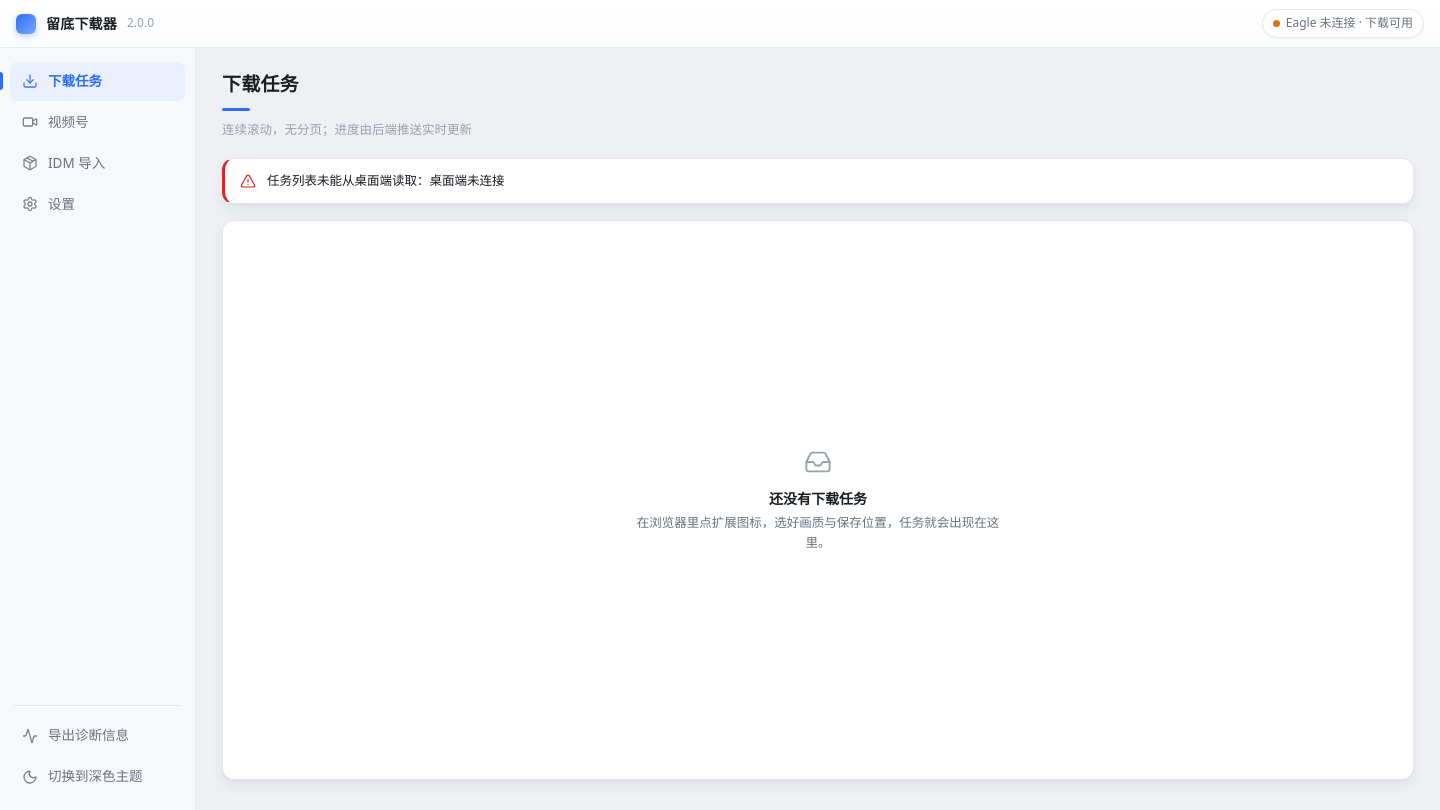
应用外壳 › 切页只换内容，外壳不重建（[09 §2.3]、[16 §4.7]）
The width and height of the screenshot is (1440, 810).
Click the button "设置" at (98, 204), box [10, 185, 185, 224]
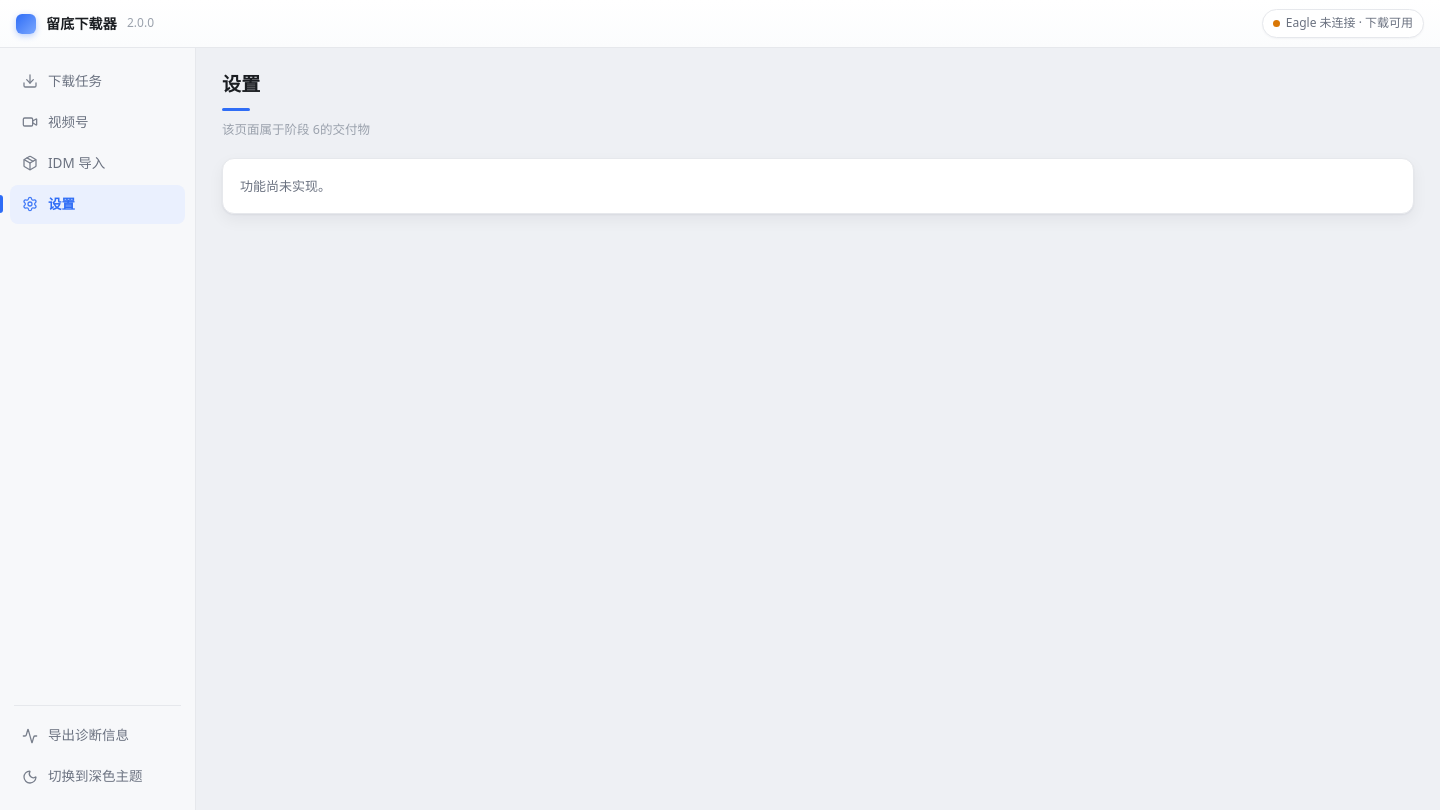
Check: the heading "设置" is shown, box [222, 71, 260, 111]
Check: the text "还没有下载任务" is gone
